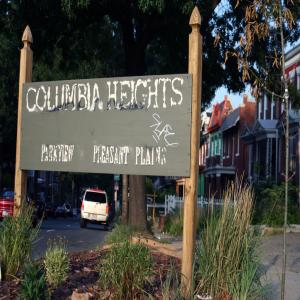Vehicle-registration-plate: (3, 211, 10, 217), (93, 214, 98, 219)
